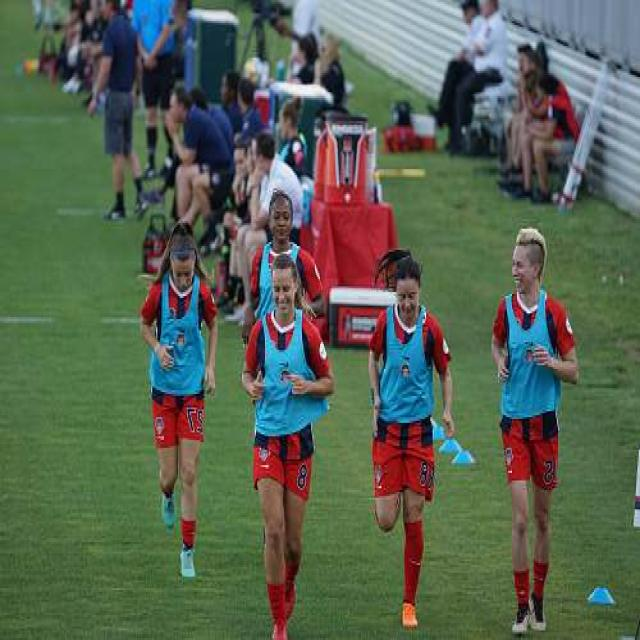running: (489, 228, 582, 640), (238, 254, 334, 640), (371, 247, 455, 631), (136, 220, 222, 578)
